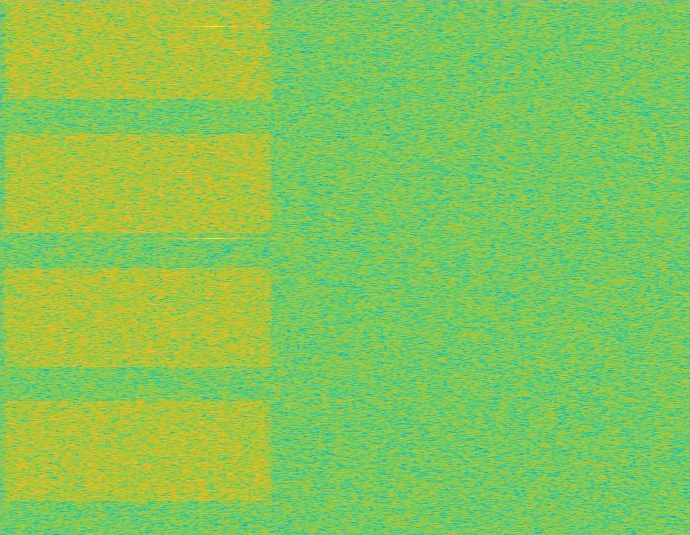5G: (0, 0, 276, 534)
Radar: (207, 0, 221, 534)
